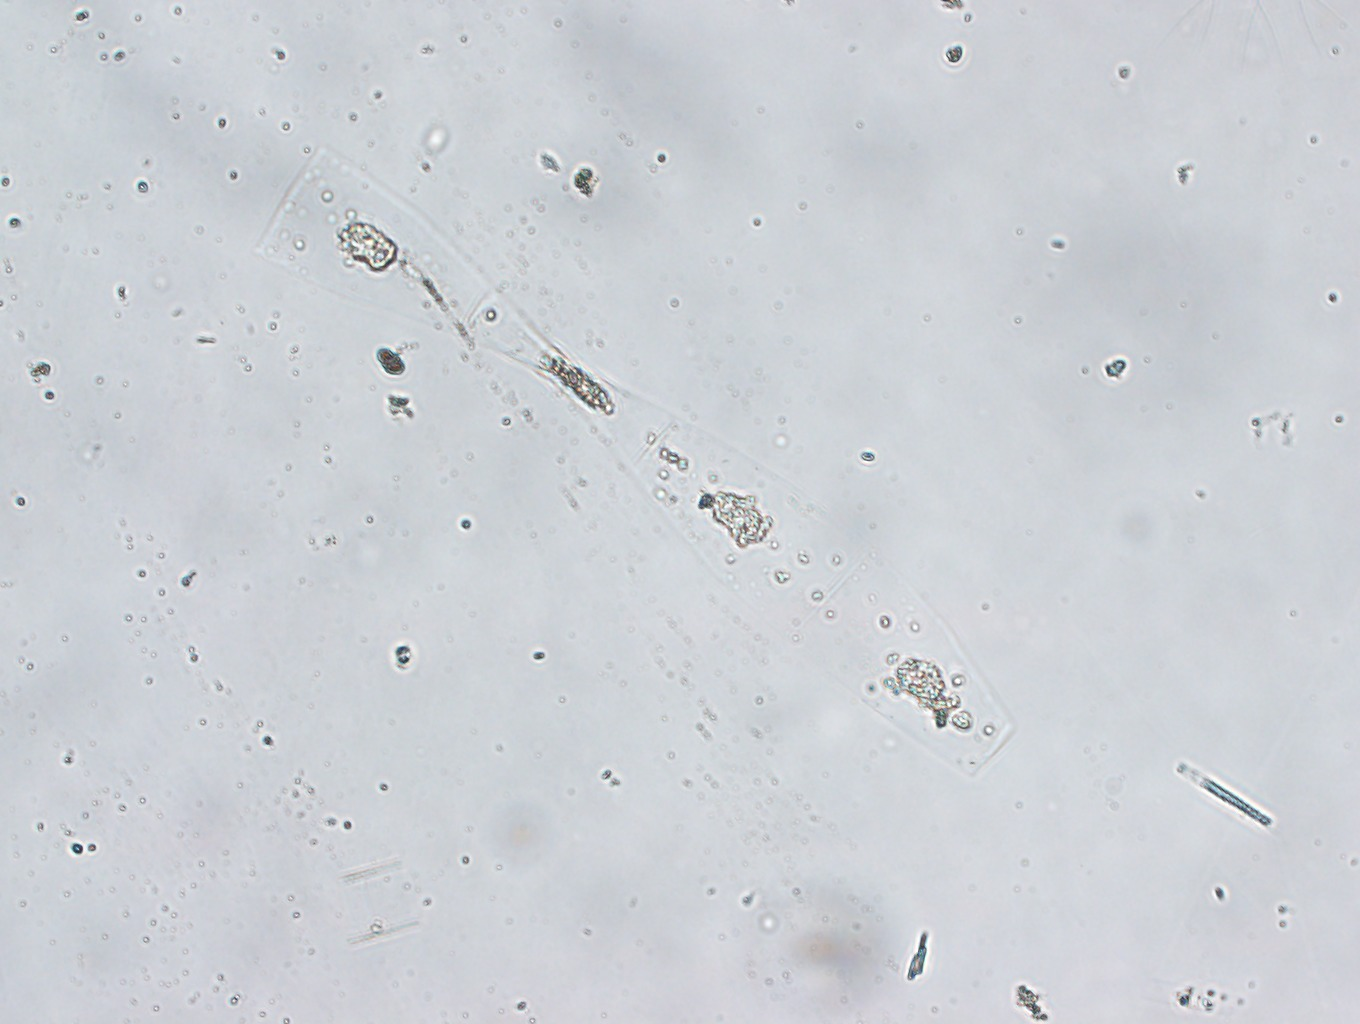helicotheca: (248, 134, 1022, 780)
